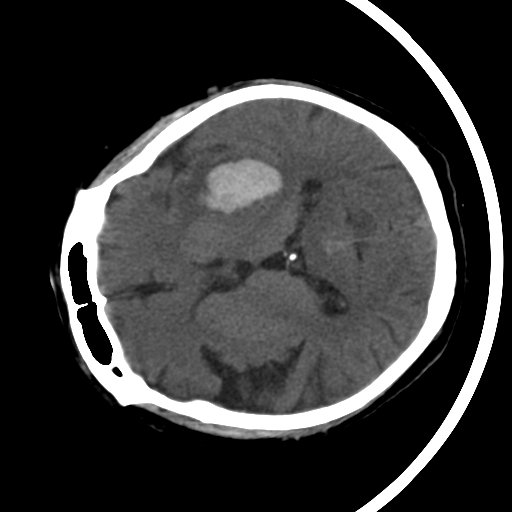a: (158, 135, 304, 235)
